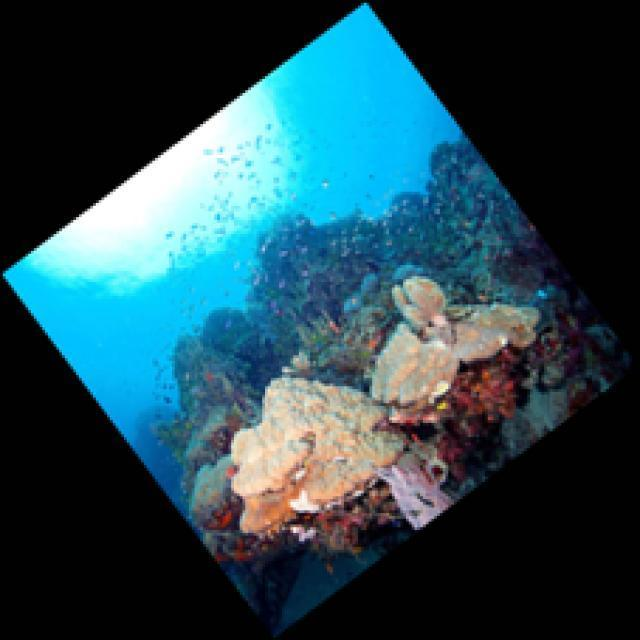Bleached: (229, 376, 410, 535), (369, 277, 540, 407)
Healthy: (433, 345, 530, 480), (318, 479, 398, 555)
